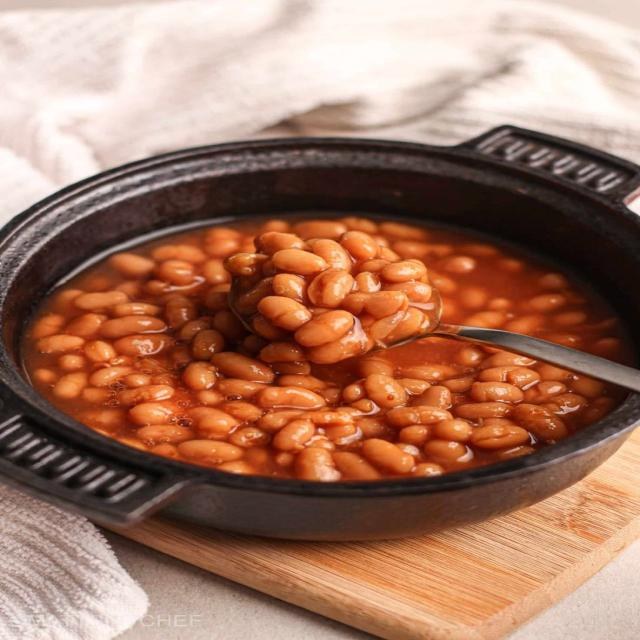beans: (25, 217, 624, 481), (295, 311, 354, 346), (512, 404, 567, 441), (212, 352, 274, 382), (258, 296, 311, 331), (361, 439, 414, 473), (307, 269, 353, 307), (178, 440, 243, 464), (295, 447, 340, 481), (100, 315, 166, 338), (257, 387, 326, 409), (189, 407, 237, 438), (470, 425, 529, 449), (273, 249, 327, 275), (364, 374, 406, 407), (387, 406, 452, 427), (478, 366, 540, 388), (273, 419, 315, 451), (308, 239, 352, 269), (334, 452, 380, 480), (255, 231, 306, 255), (136, 425, 194, 446), (114, 334, 168, 355), (109, 253, 154, 278), (454, 402, 513, 421), (118, 385, 174, 405), (340, 231, 378, 260), (128, 402, 173, 426), (216, 378, 267, 399), (293, 220, 346, 240), (165, 296, 197, 329), (471, 382, 523, 402), (74, 291, 128, 310), (152, 244, 206, 263), (66, 314, 107, 339), (155, 260, 194, 286), (257, 410, 301, 433), (424, 439, 468, 462), (381, 260, 426, 282), (192, 329, 225, 359), (524, 381, 566, 404), (37, 334, 85, 354), (182, 362, 216, 390), (272, 274, 306, 302), (224, 253, 266, 275), (412, 386, 452, 409), (434, 419, 473, 442), (54, 372, 87, 399), (482, 351, 534, 368), (260, 343, 306, 362), (278, 374, 326, 392), (32, 314, 66, 339), (379, 222, 426, 240), (229, 427, 269, 447), (402, 365, 455, 380), (178, 317, 211, 341), (89, 367, 130, 386), (570, 376, 605, 398), (109, 302, 160, 317), (201, 258, 230, 284), (527, 294, 566, 313), (399, 425, 432, 446), (466, 311, 506, 328), (84, 341, 116, 362), (440, 256, 477, 274), (359, 357, 393, 376), (456, 345, 486, 366), (340, 217, 377, 234), (354, 272, 381, 292), (397, 378, 429, 394), (58, 354, 86, 371), (412, 463, 444, 477)
